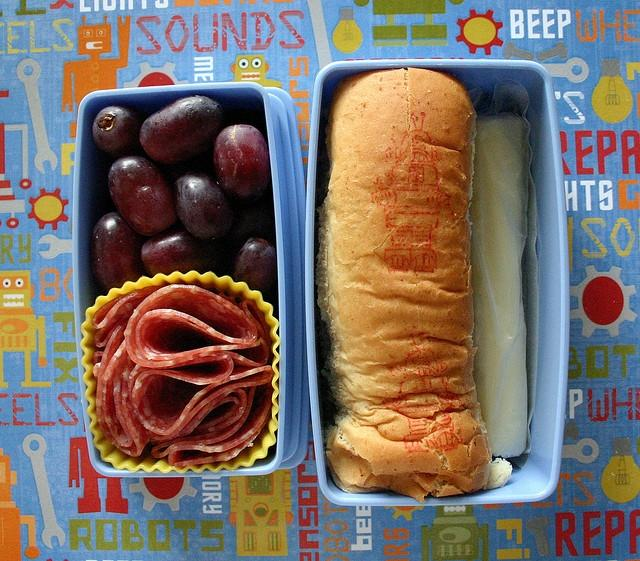grape: (140, 95, 223, 164), (108, 156, 178, 236), (89, 213, 151, 295), (214, 124, 272, 205), (172, 168, 233, 244), (140, 230, 222, 278), (233, 237, 278, 297), (92, 106, 138, 156), (230, 206, 271, 244)
